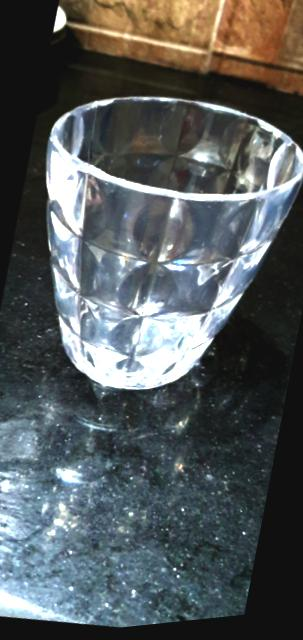Cup: (45, 97, 302, 389)
